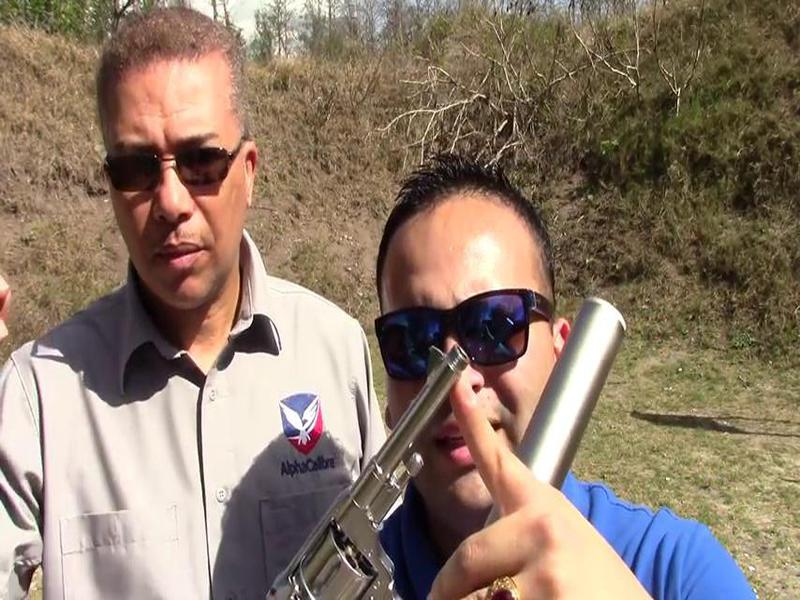Revolver: (227, 298, 512, 600)
